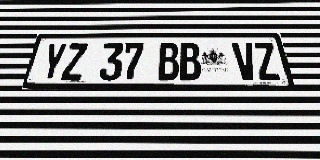3: (99, 43, 123, 81)
7: (121, 43, 144, 81)
B: (179, 43, 202, 81), (158, 43, 179, 81)
V: (232, 43, 259, 80)
Y: (38, 43, 68, 81)
Z: (252, 42, 282, 80), (60, 43, 88, 81)
